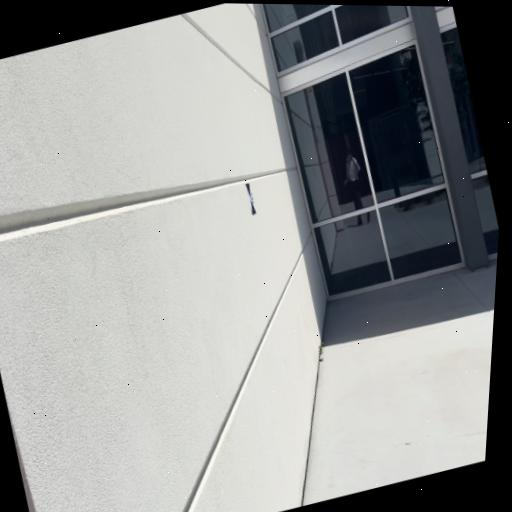target4: (242, 181, 259, 214)
